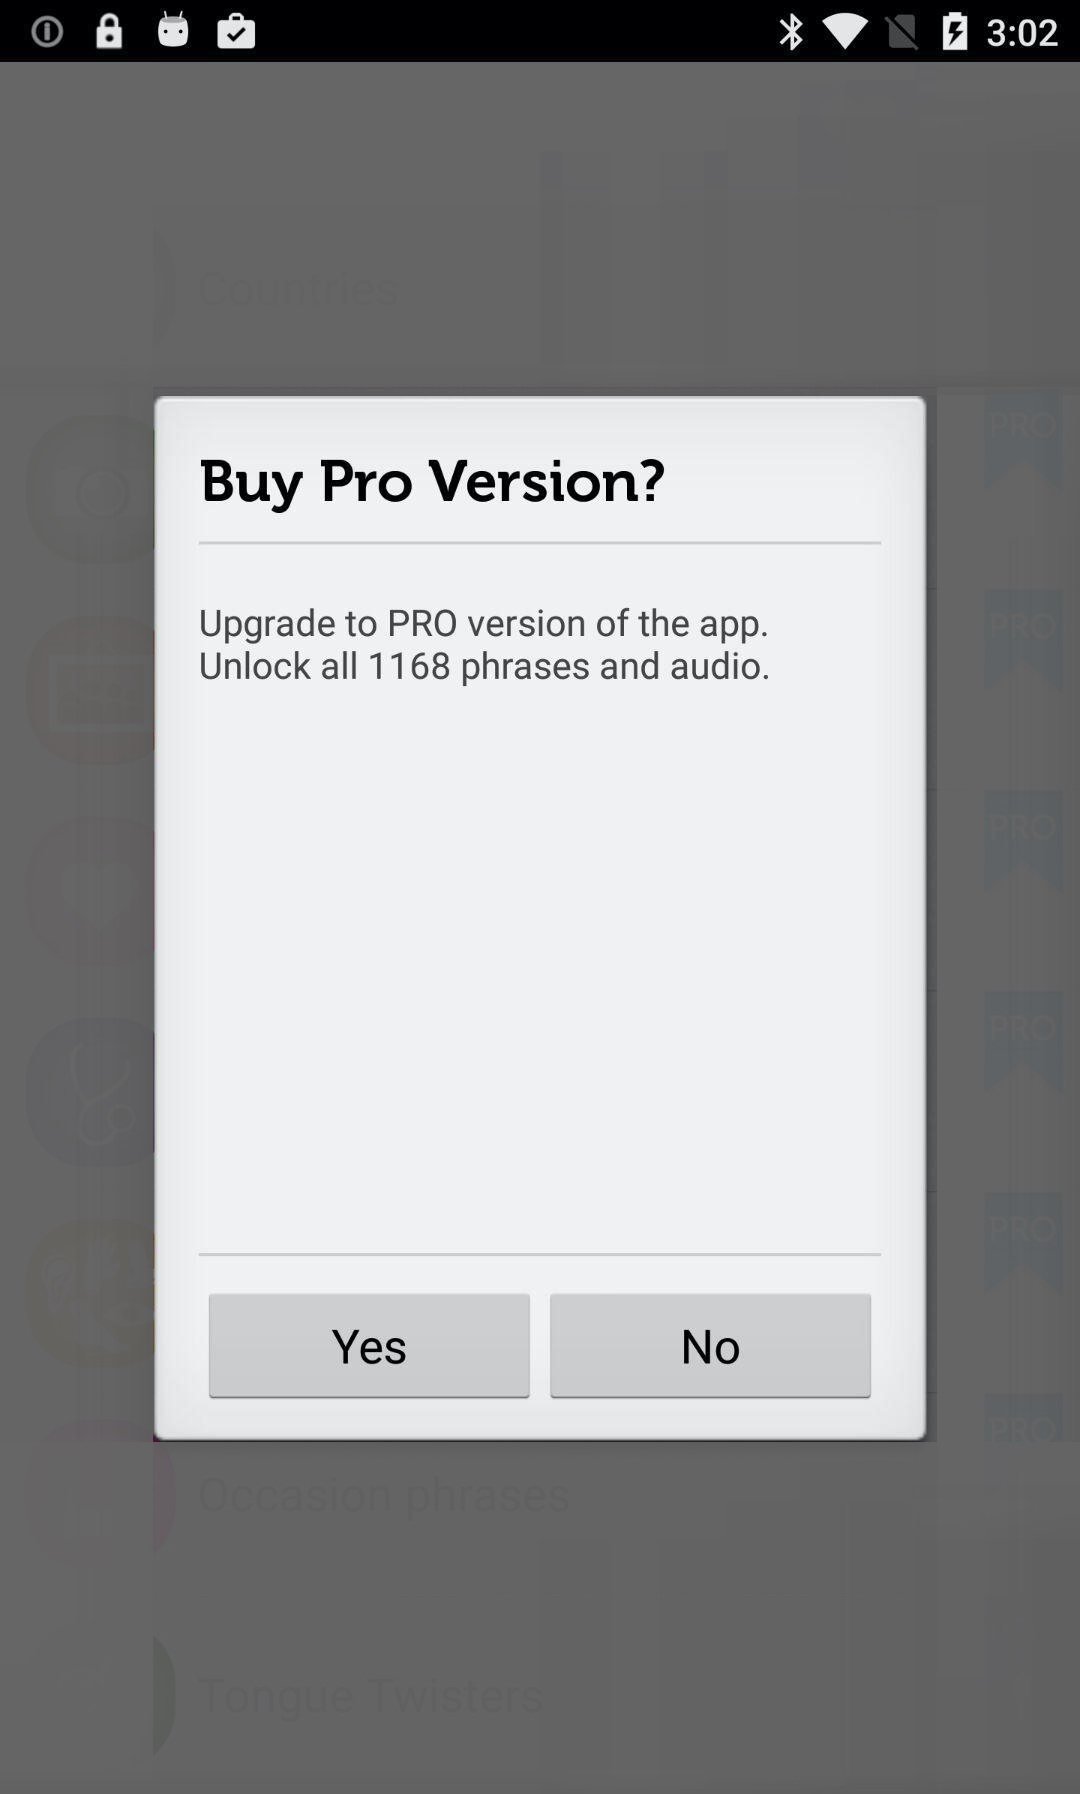Modal: (154, 396, 928, 1442)
Text: (199, 606, 767, 687), (201, 457, 666, 515)
TextButton: (550, 1293, 871, 1398), (209, 1293, 530, 1398)
UpperTaskBar: (1, 1, 1080, 64)
